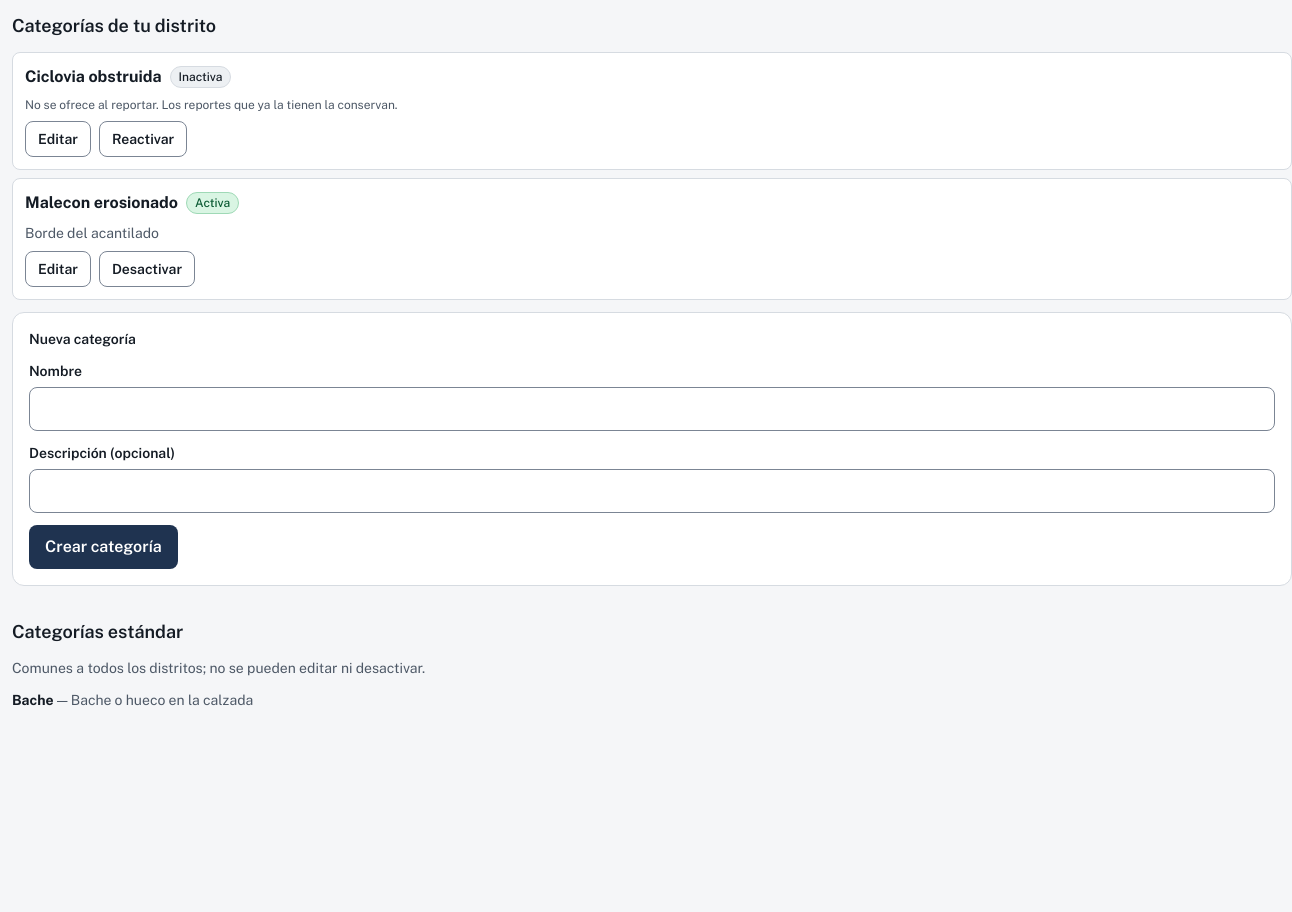
Test: GestionCategorias › muestra el mensaje del backend si no puede desactivar
Click the button "Desactivar" at x=147, y=269, box 99,251 -> 195,287
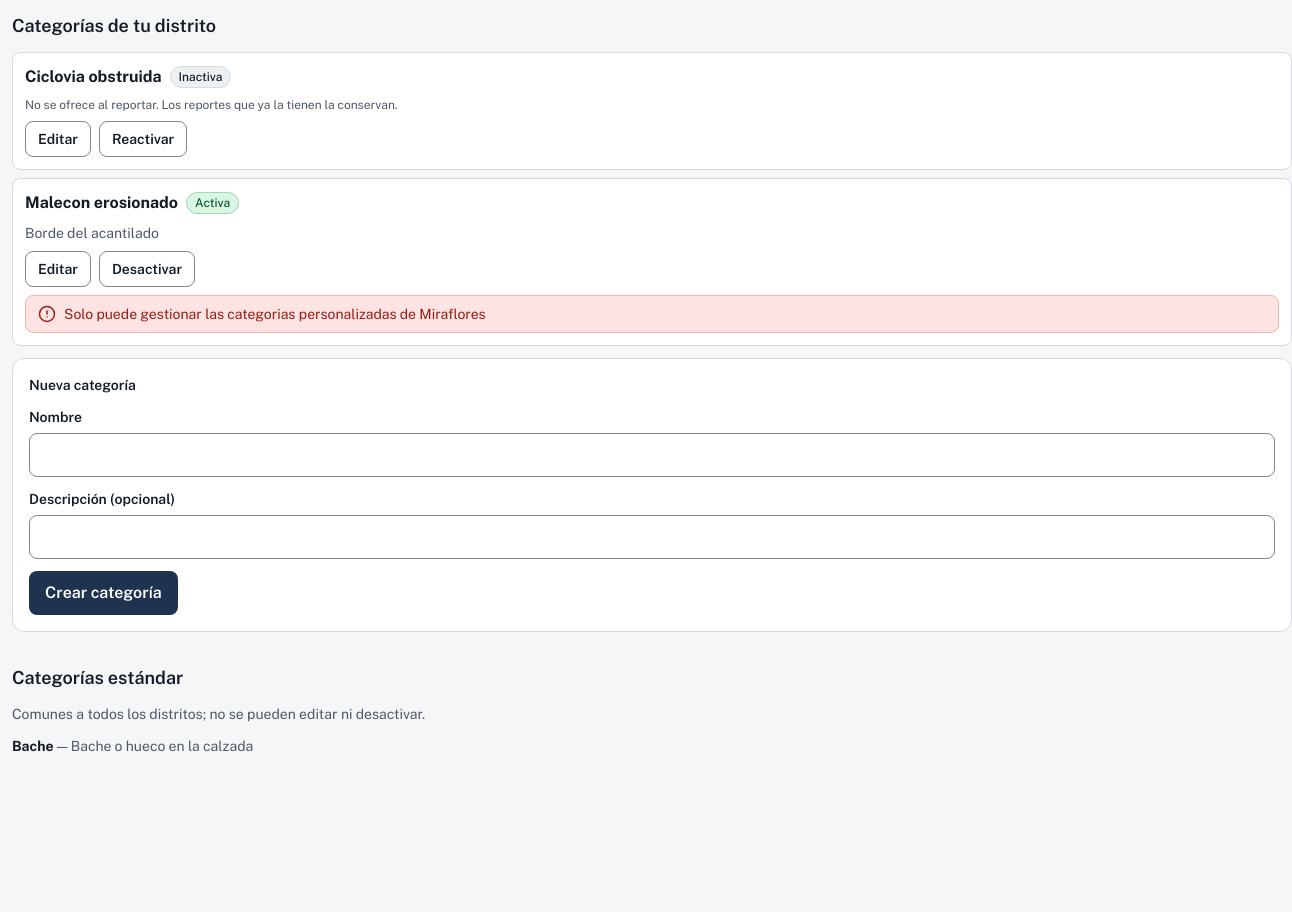
expect the text "Solo puede gestionar las categorias personalizadas de Miraflores" is shown: met, box 64,306 -> 486,322
